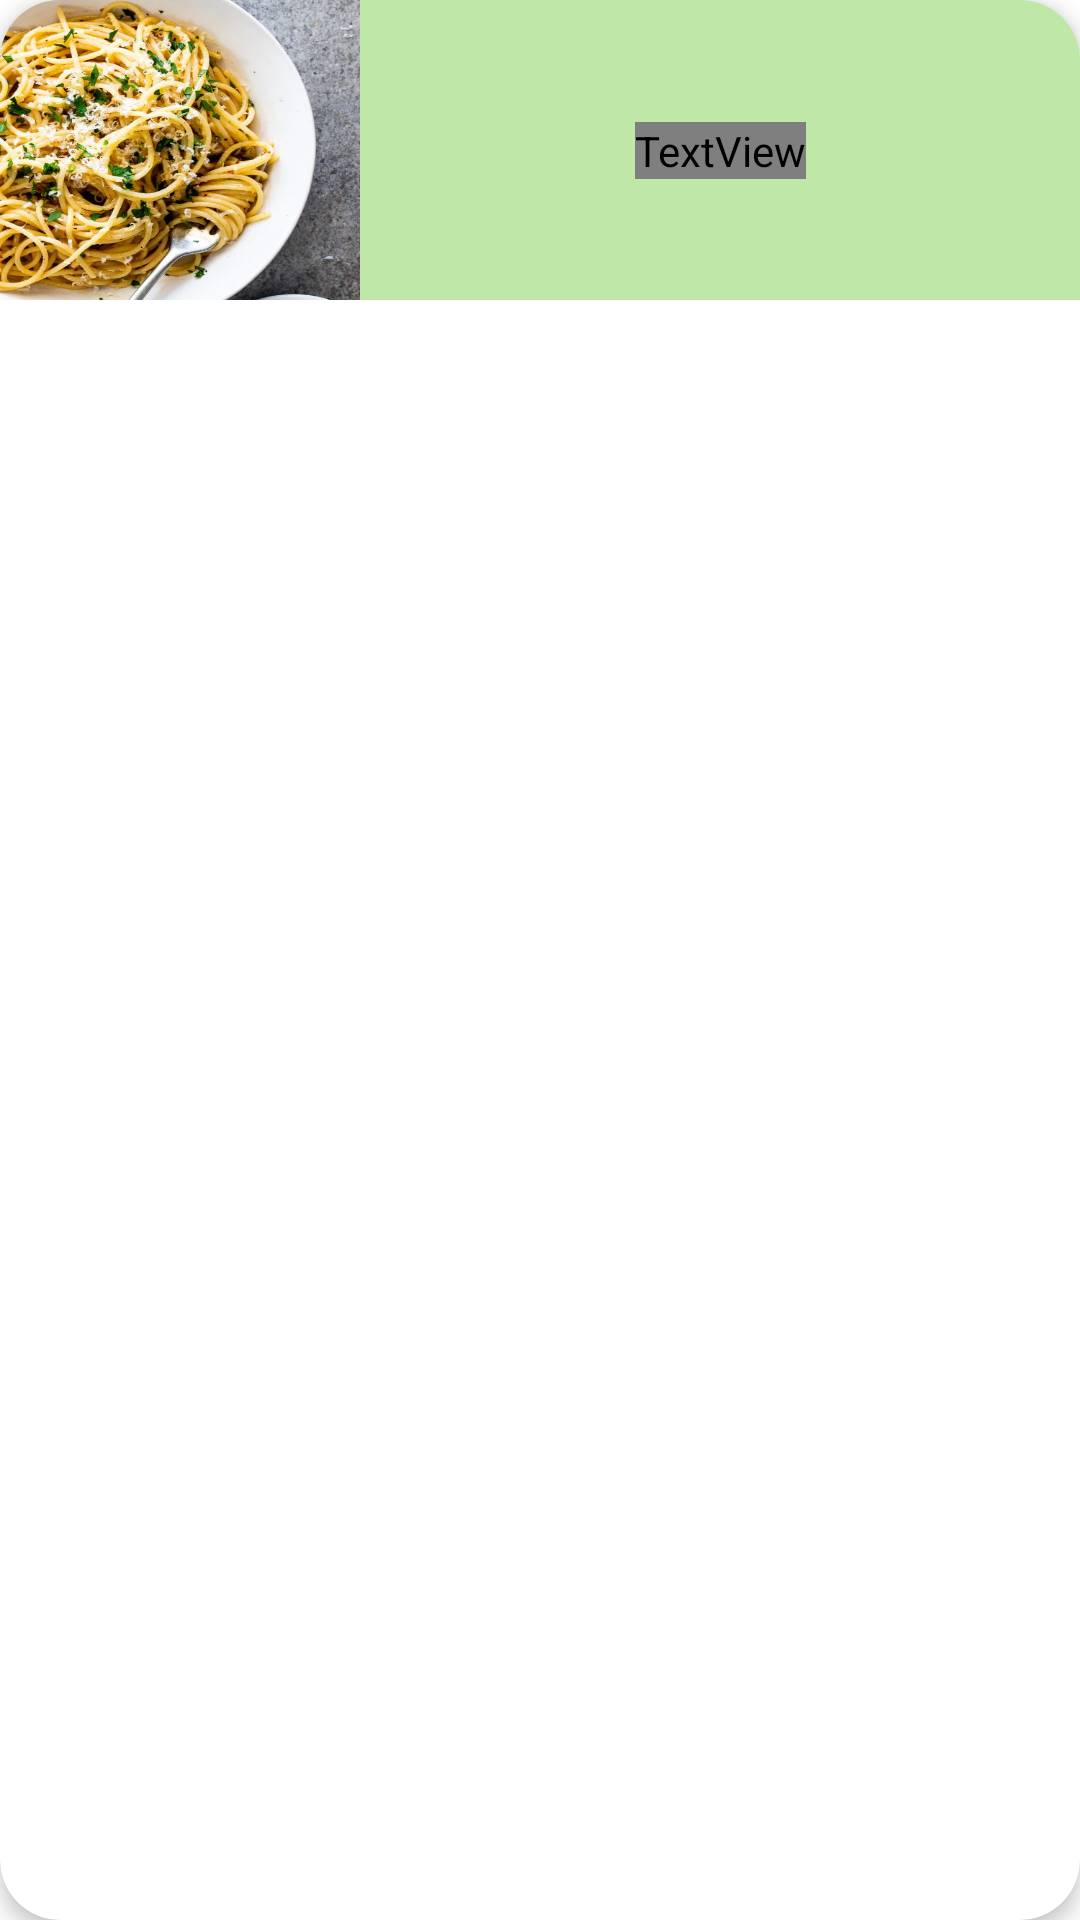

Where to tap for icons on this 1080px×1920px app screen, as (x,y):
spaghetti aglio eolio: (180,150)
